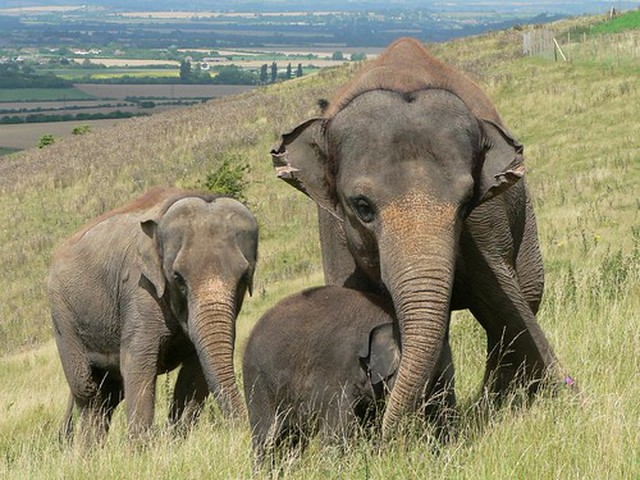Elephant: (242, 37, 577, 455), (46, 182, 253, 422)
